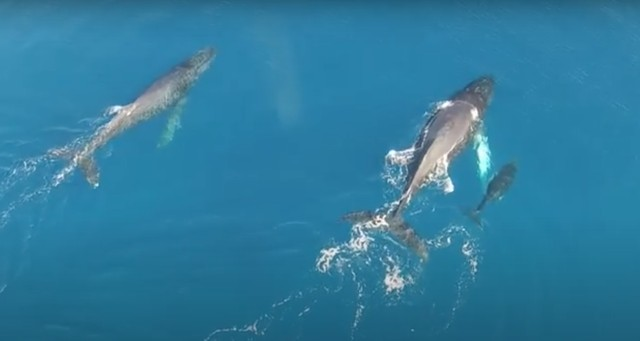whale: (337, 67, 502, 271), (42, 37, 221, 197), (456, 158, 521, 235)
